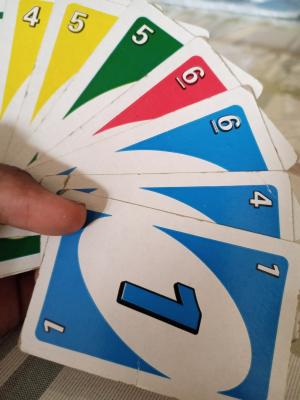blue: (59, 237, 271, 370), (150, 187, 273, 225), (145, 137, 249, 169)
num_1: (37, 313, 71, 342), (251, 256, 285, 282)
num_4: (17, 2, 45, 32), (246, 186, 278, 212)
num_5: (129, 20, 155, 47), (66, 9, 90, 36)
num_6: (172, 61, 211, 95), (204, 110, 248, 138)
